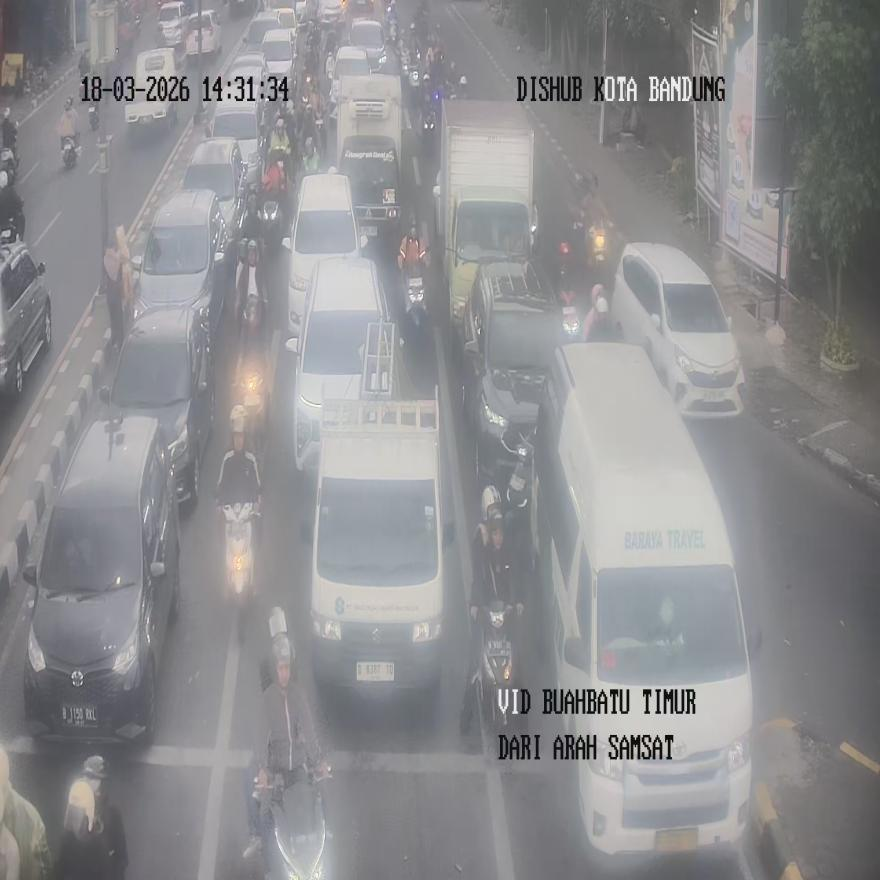Bis: (534, 342, 755, 858)
Motor: (308, 324, 453, 699), (21, 416, 179, 747), (461, 258, 581, 479), (612, 242, 746, 417), (286, 256, 393, 472), (100, 303, 214, 504), (128, 188, 226, 346), (282, 167, 364, 336), (336, 74, 403, 247), (0, 233, 52, 396)
